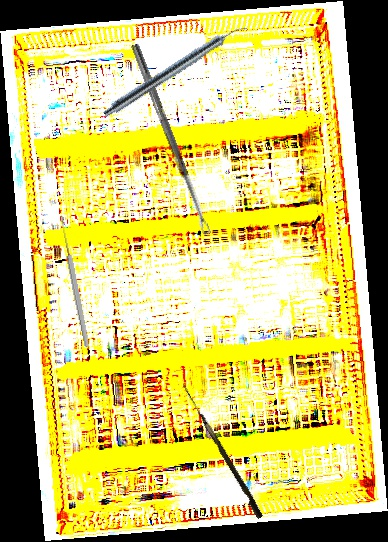Handpiece: (101, 19, 249, 122)
Hook Surgical: (176, 383, 266, 520)
Surgical Spoon: (129, 43, 212, 236), (58, 214, 91, 349)
